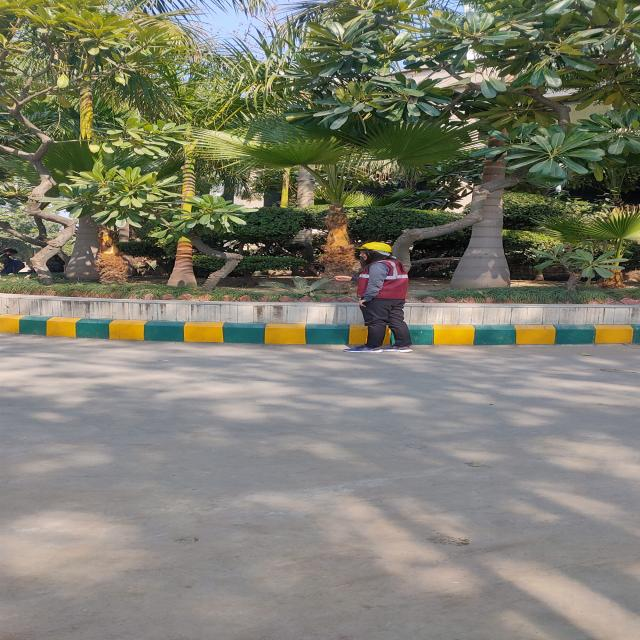safe: (344, 242, 412, 352)
